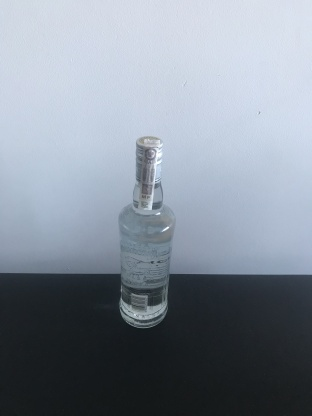nakretka: (133, 133, 165, 185)
